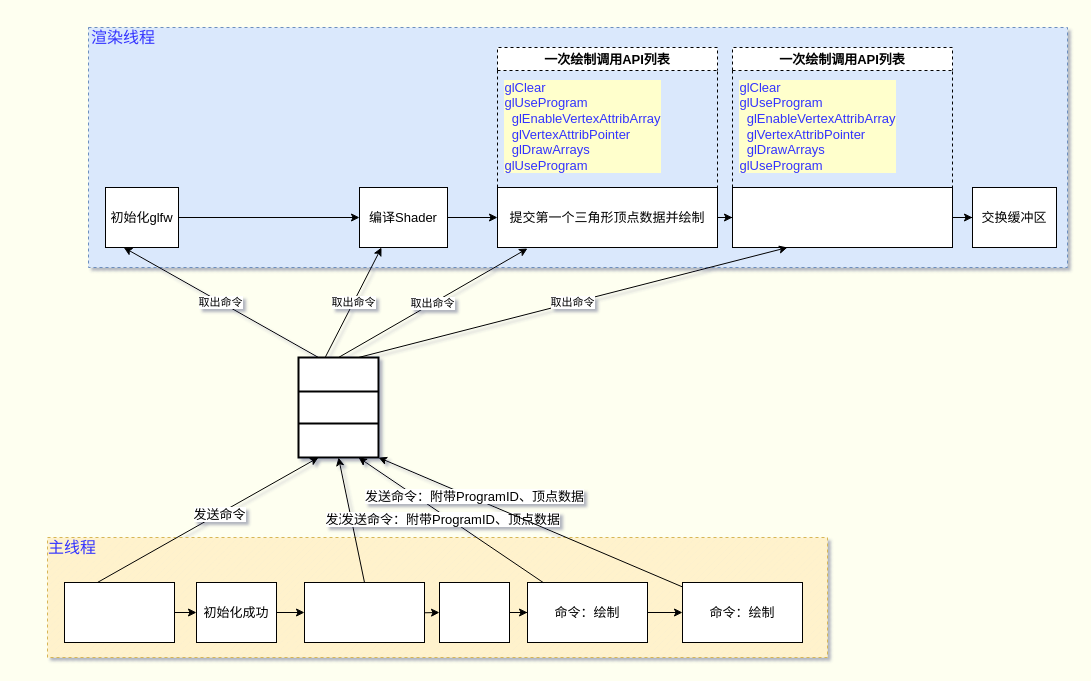
This 1091x681 diagram has some shape labels left out. The shapes that lost their labels are listed below. From the top down, each one's box as (x1, y1, x2, y2) in pixels, then its label:
(732, 186, 952, 248): 提交第二个三角形顶点数据并绘制
(297, 356, 379, 458): 任务队列
(64, 582, 174, 642): 命令：初始化glfw
(304, 582, 424, 642): 命令：编译Shader
(438, 582, 510, 642): 编译成功
